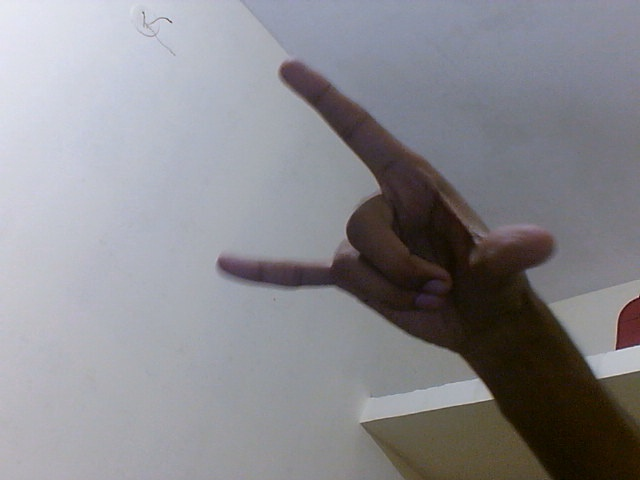hand: (214, 56, 558, 376)
